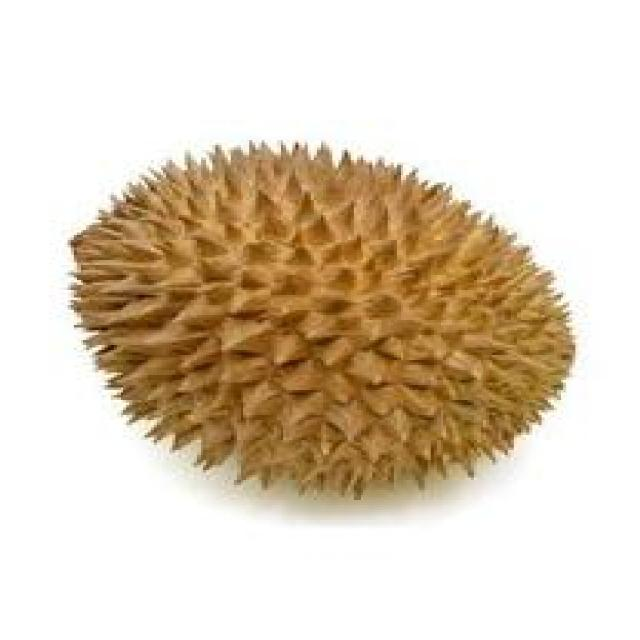fruit: (277, 135, 609, 560), (37, 193, 397, 575)
